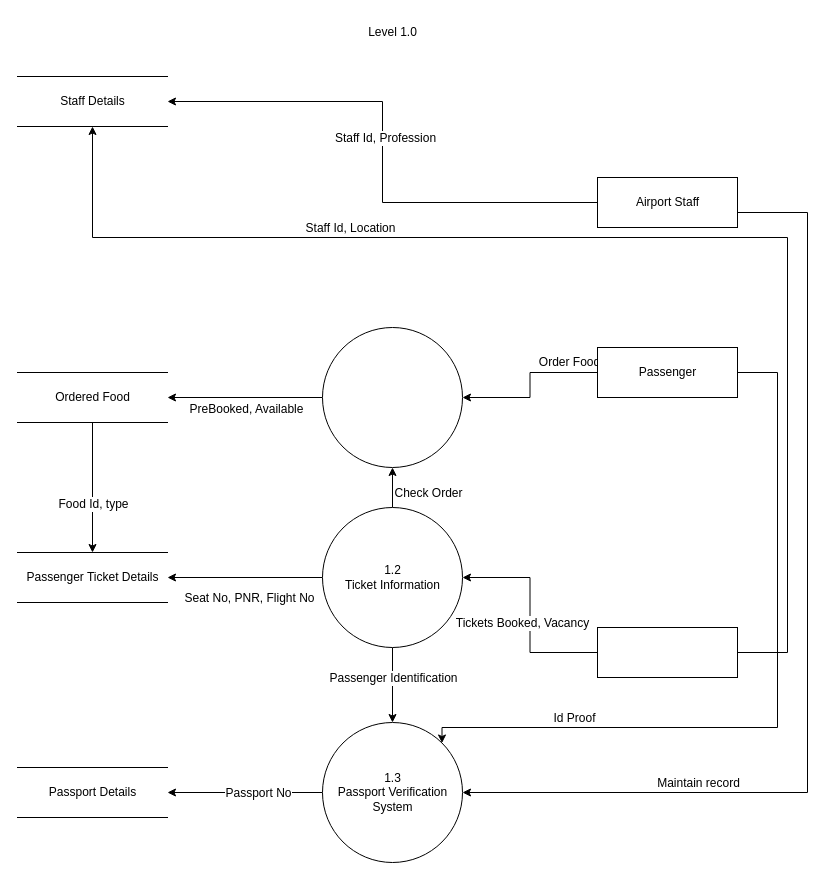
Some shapes in this 833 by 880 pixel diagram are drawn without their labels. The shapes that lost their labels are listed below. From the top down, each one's box as (x1, y1, x2, y2) in pixels, then its label:
(322, 326, 462, 468): 1.1 Food Ordering System
(596, 626, 738, 678): Airline
